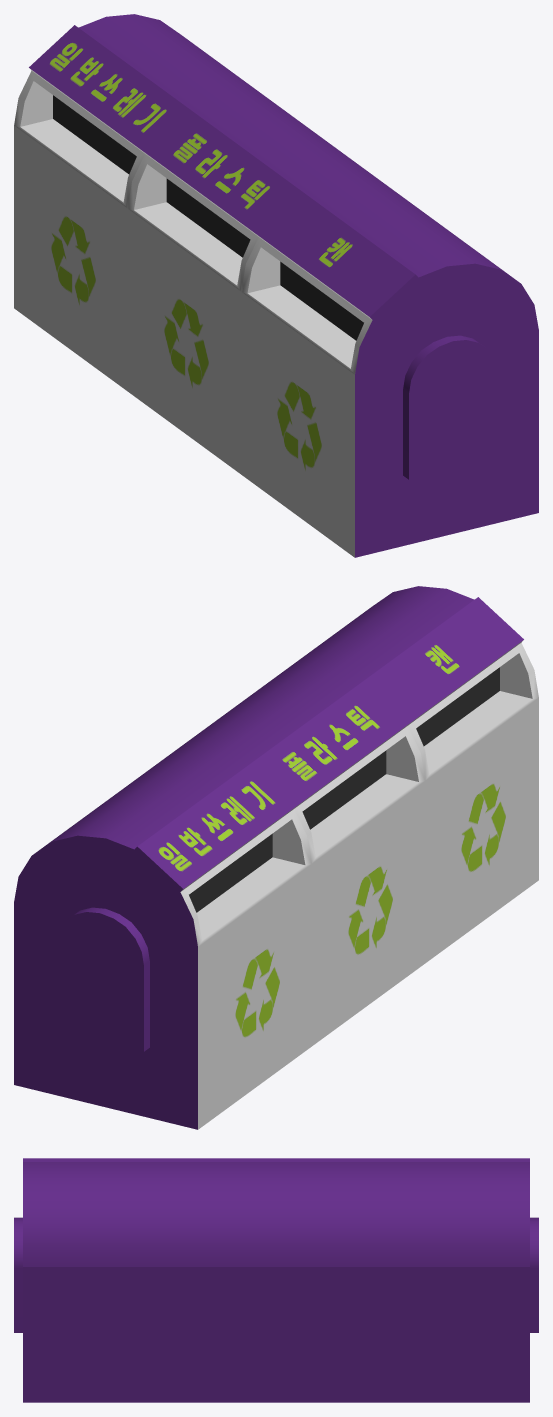
Rendered from fbx_trashcan_2.fbx.
3 views of the same model, one above another, from view 1: azimuth 30°, elevation 25°; view 2: azimuth 150°, elevation 25°; view 3: azimuth 270°, elevation 25° (orthographic). The views are drawn at different scales.
Visible parts, largest first — view 1: fbx_trashcan_2; view 2: fbx_trashcan_2; view 3: fbx_trashcan_2.
Boxes of the visible parts, <box> form: fbx_trashcan_2: <box>14,14,538,557</box>; fbx_trashcan_2: <box>14,586,538,1129</box>; fbx_trashcan_2: <box>14,1158,538,1402</box>.
Size of the model in its own units: 0.3789 by 0.5293 by 1.26.
1 material, 1 textured.
